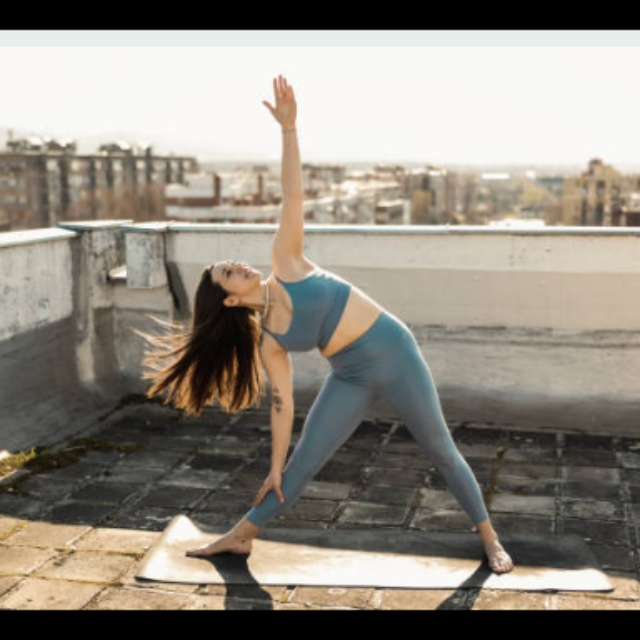Triangle_Pose: (140, 70, 521, 578)
